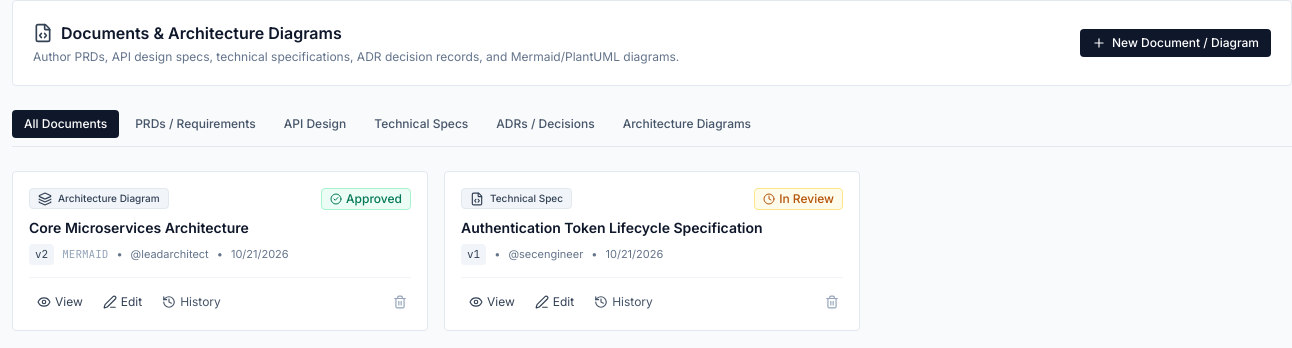
Test: Phase 4: Documents & Architecture Diagrams Components › filters documents by document type tab
Expected: the heading "Core Microservices Architecture" is shown, [29,219,249,236]
Expected: the heading "Authentication Token Lifecycle Specification" is shown, [461,219,763,236]
Note: Click on "Technical Specs" filter tab
Click the button "Technical Specs": (421, 124) [362,110,480,138]
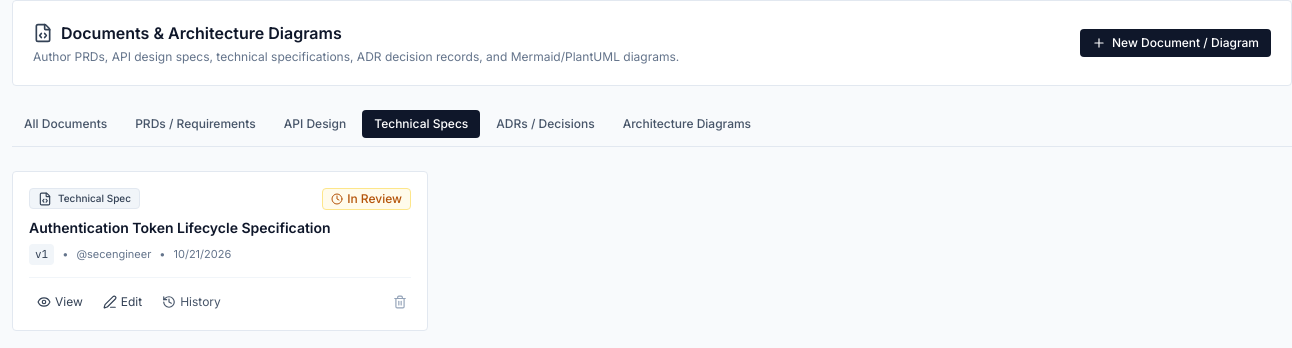
Expected: the heading "Authentication Token Lifecycle Specification" is shown, [29,219,331,236]
Expected: the heading "Core Microservices Architecture" is gone
